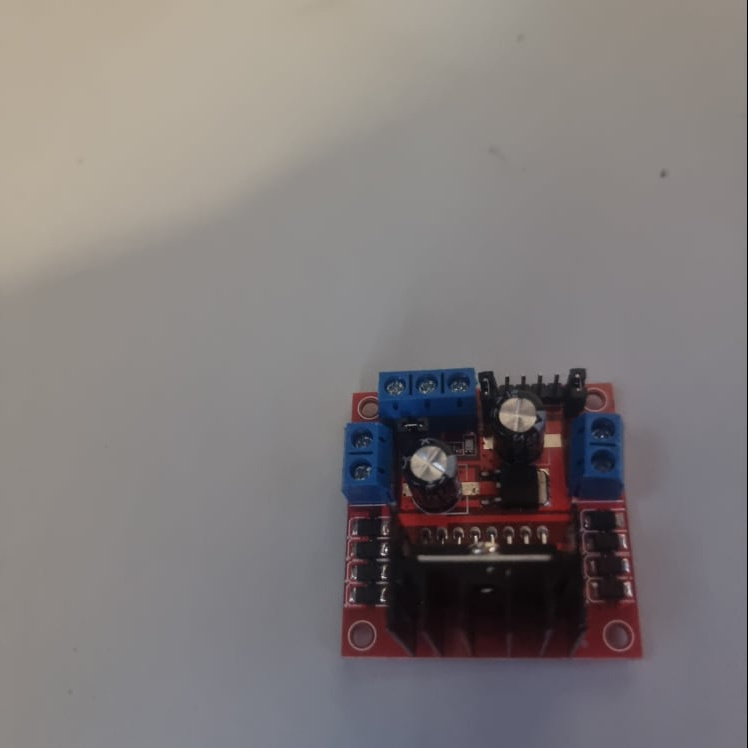MOTOR: (345, 361, 645, 663)
